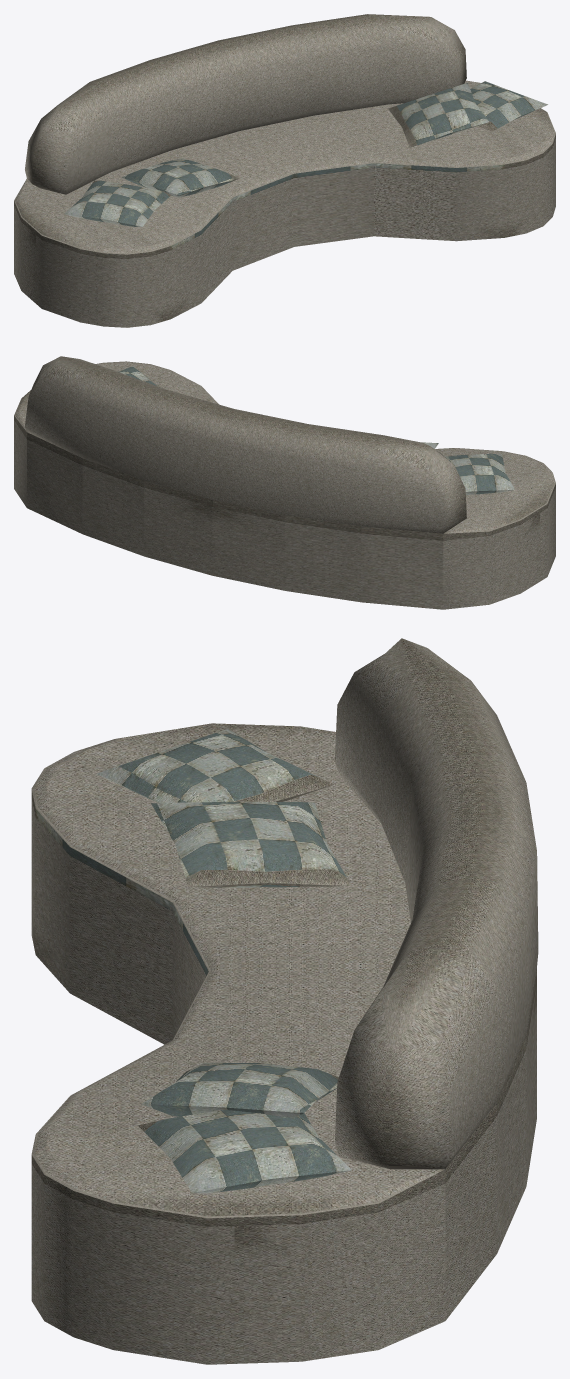
Rendered from couch_merovingian.fbx.
The picture shows the model from 3 angles, top to bottom: view 1: azimuth 30°, elevation 25°; view 2: azimuth 150°, elevation 25°; view 3: azimuth 270°, elevation 25°; orthographic projection. The views are drawn at different scales.
Parts seen in each view (by area): view 1: mesh_0; view 2: mesh_0; view 3: mesh_0.
Boxes of the visible parts, x1=… form: mesh_0: x1=14, y1=14, x2=555, y2=327; mesh_0: x1=14, y1=356, x2=555, y2=609; mesh_0: x1=31, y1=638, x2=538, y2=1364.
Size of the model in its own units: 341 by 100 by 148.
Materials: 1 (1 with a texture image).
